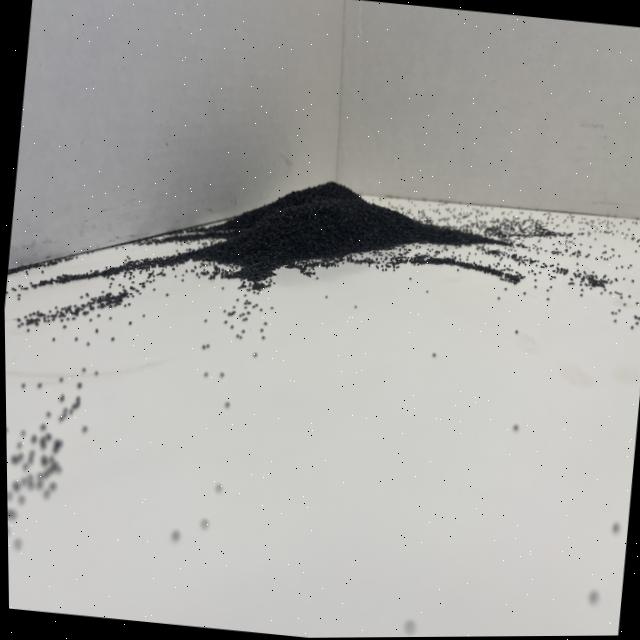Poppy Seeds: (147, 146, 493, 328)
